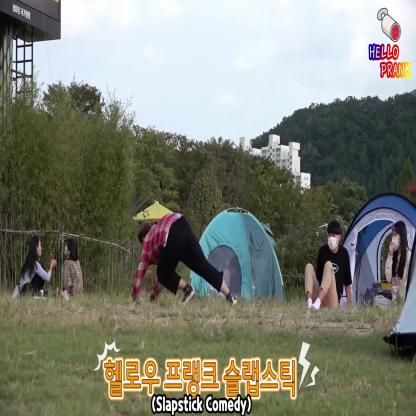Fall_Down: (130, 215, 238, 314)
